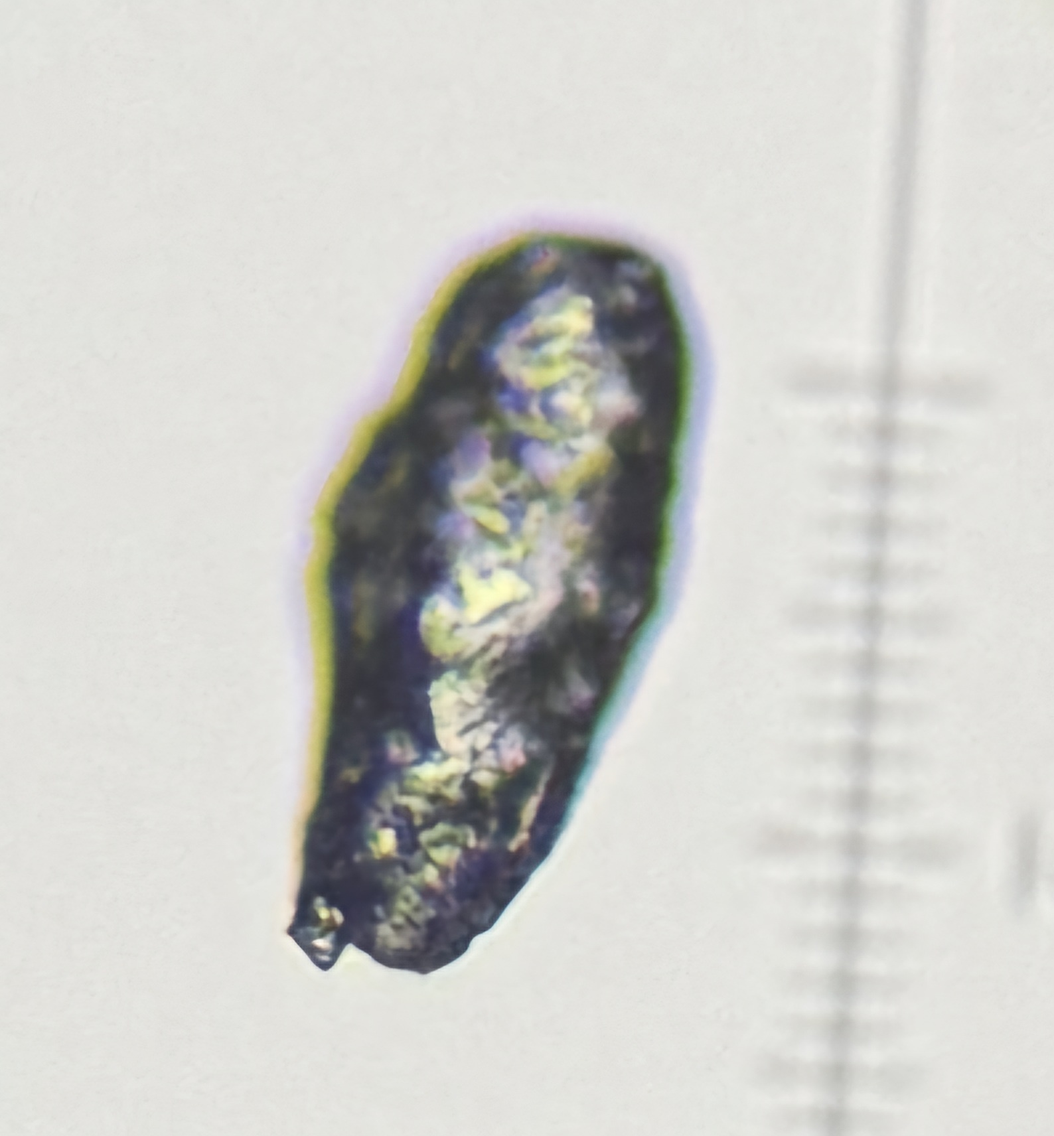microplastic: (283, 237, 690, 977)
